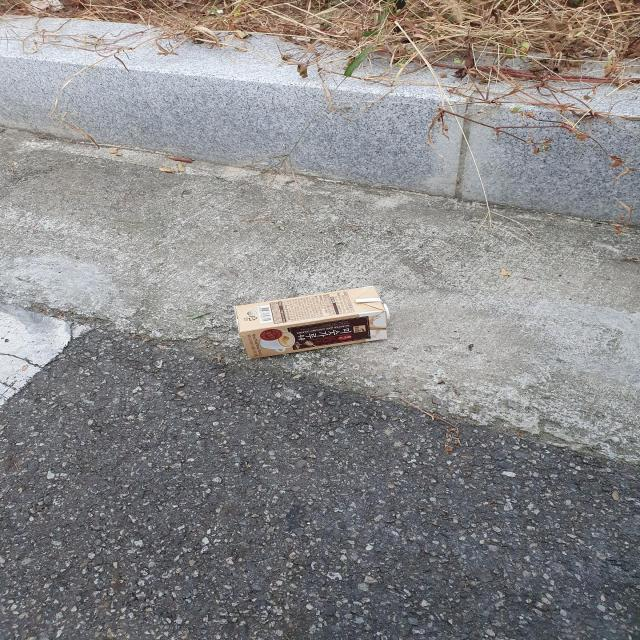paperpack: (234, 286, 388, 359)
